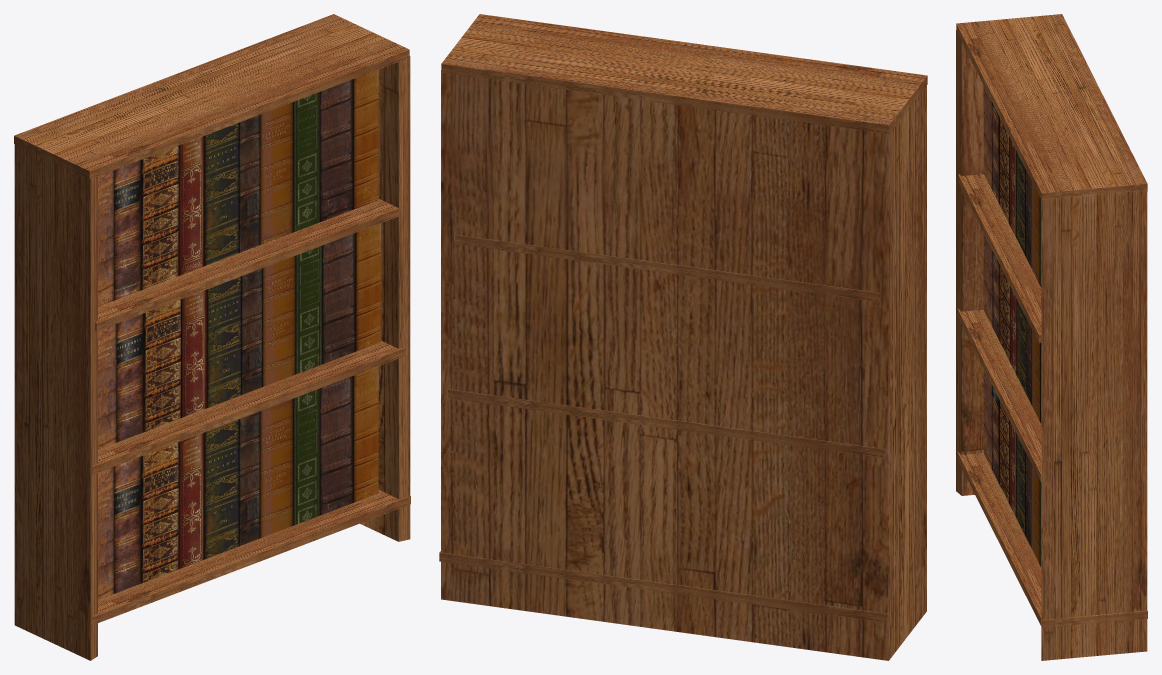
File: Bookshelf_121-161-022__ea17c0de-a47b-45a4-8e43-790ce3ca9ef9.dae
3 renders of one model, left to right at view 1: azimuth 30°, elevation 25°; view 2: azimuth 150°, elevation 25°; view 3: azimuth 270°, elevation 25°, orthographic. The views are drawn at different scales.
Parts seen in each view (by area): view 1: Primitive (×6), Bookshelf (×2); view 2: Bookshelf, Primitive (×4); view 3: Bookshelf (×2), Primitive (×6).
Boxes of the visible parts, x1=… form: Primitive (×6): x1=14, y1=14, x2=410, y2=625; Bookshelf (×2): x1=14, y1=56, x2=410, y2=660; Bookshelf: x1=441, y1=70, x2=926, y2=660; Primitive (×4): x1=439, y1=14, x2=927, y2=622; Bookshelf (×2): x1=956, y1=30, x2=1147, y2=660; Primitive (×6): x1=956, y1=14, x2=1147, y2=628.
Bounding box in the file's own units: 1.33 × 0.6003 × 1.61.
